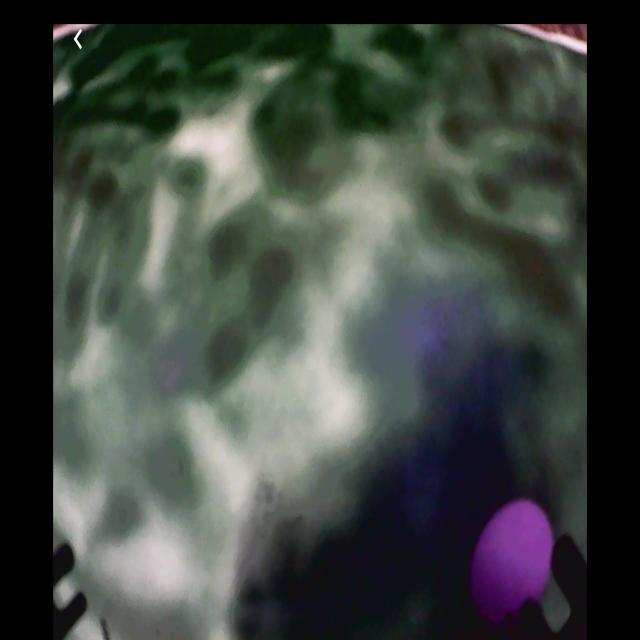ball: (471, 495, 555, 632)
